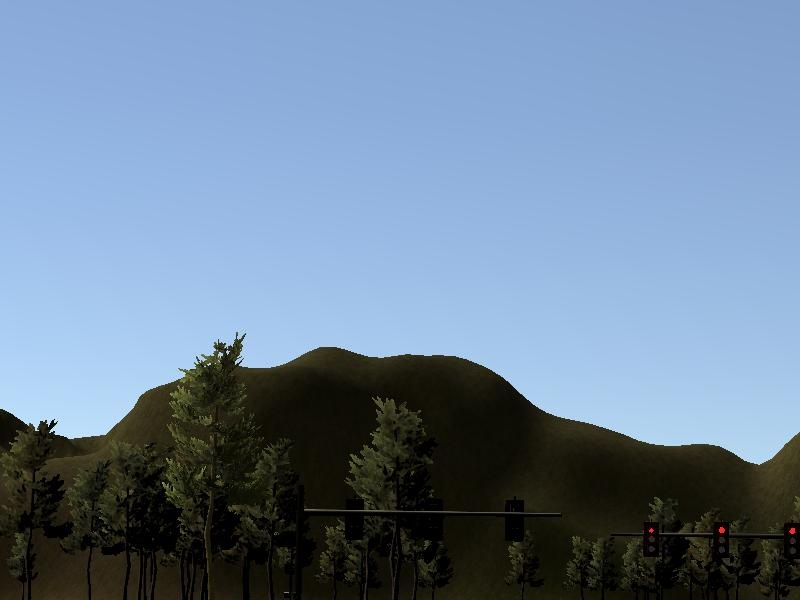RED: (708, 518, 736, 569), (636, 515, 660, 567), (778, 518, 800, 566)
